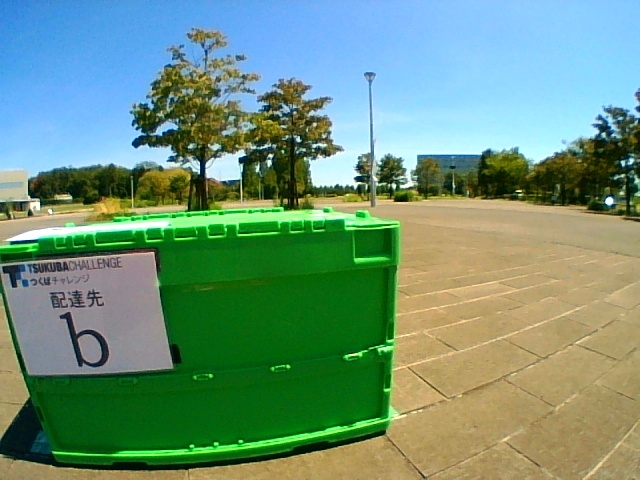green_box: (1, 207, 402, 464)
tag_b: (27, 263, 155, 371)
